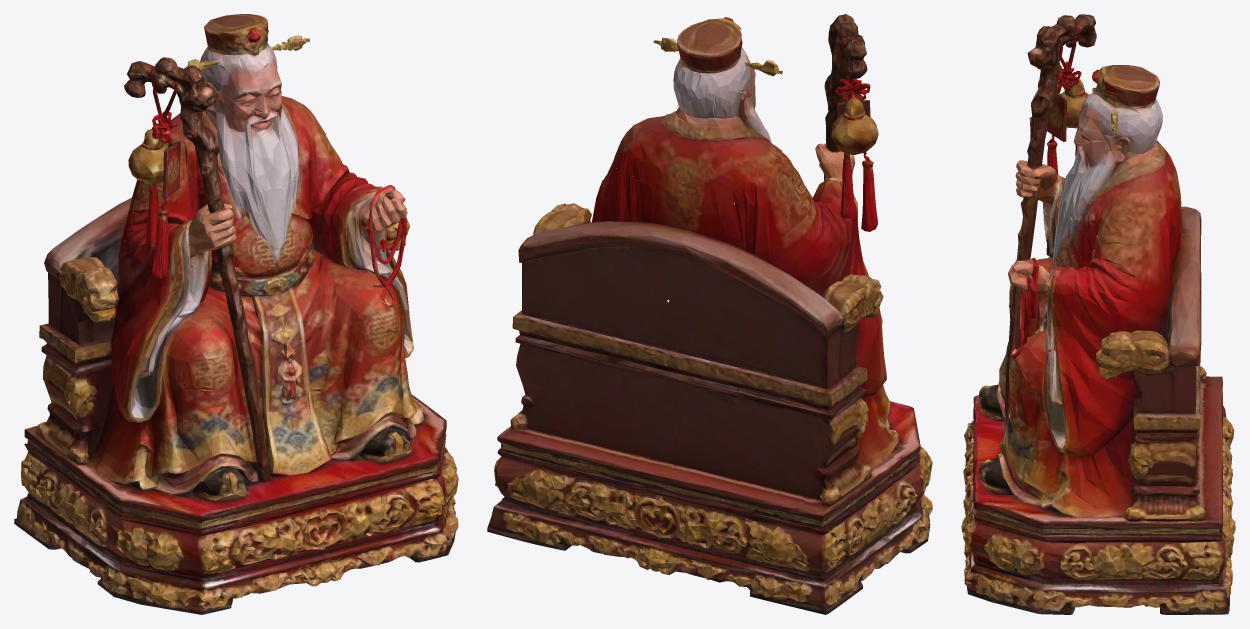
File: yuelao-lite.glb
The picture shows the model from 3 angles, left to right: view 1: azimuth 30°, elevation 25°; view 2: azimuth 150°, elevation 25°; view 3: azimuth 270°, elevation 25°; orthographic projection. The views are drawn at different scales.
Size of the model in its own units: 0.6888 by 0.9772 by 0.511.
Materials: 1 (1 with a texture image).
